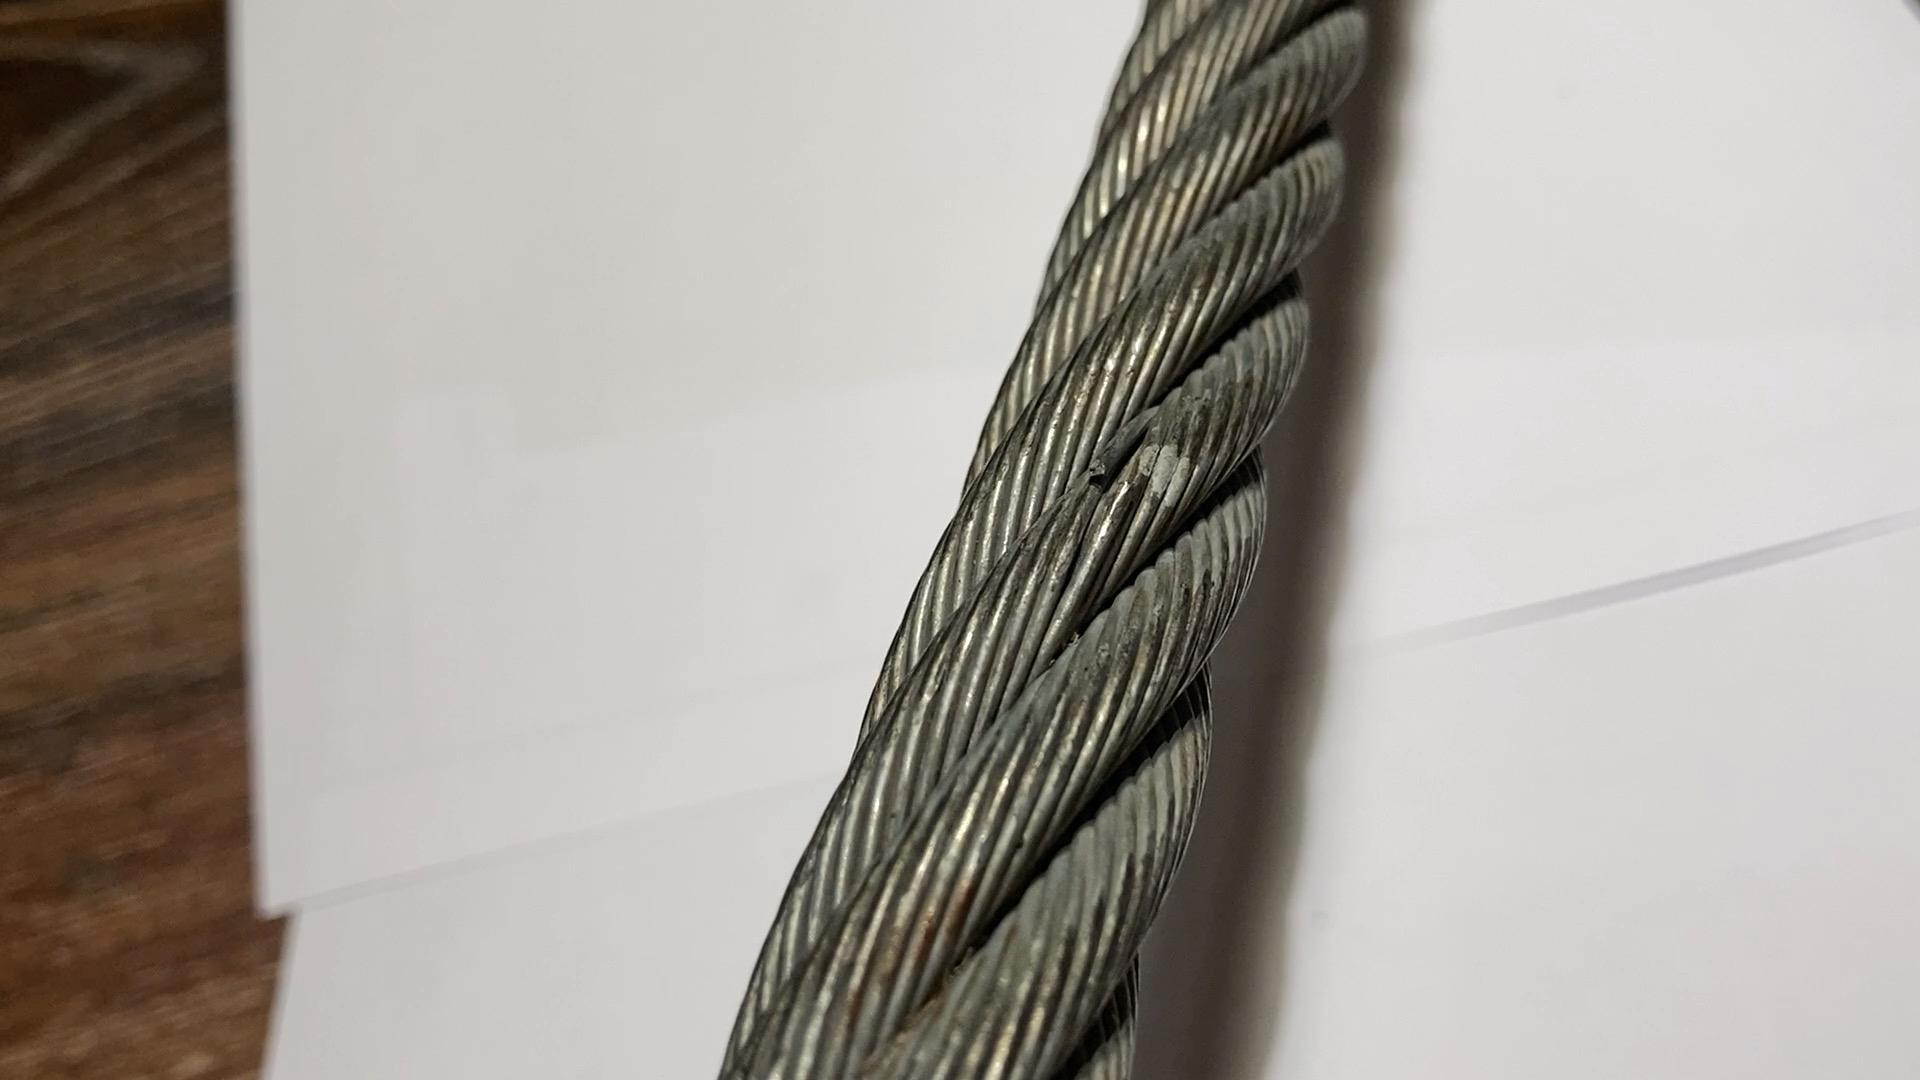break: (1081, 427, 1167, 527)
